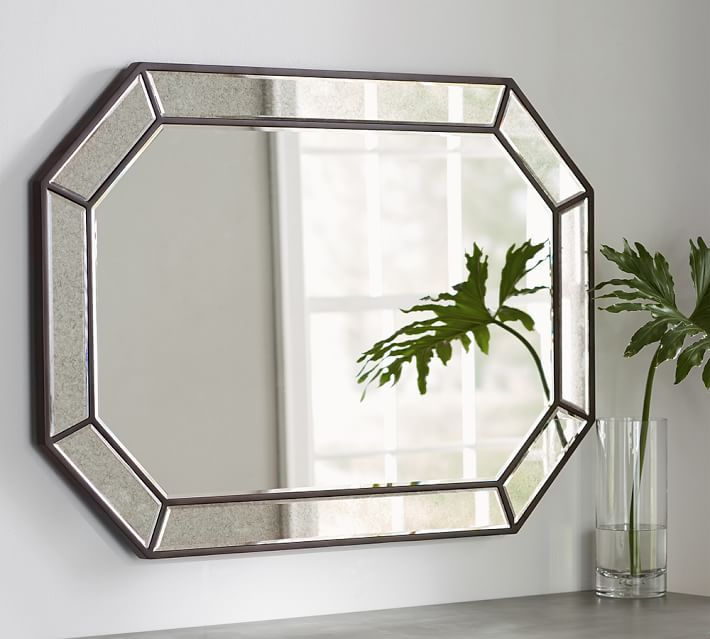Nonrec_Glass: (34, 54, 611, 543), (584, 409, 691, 611)
Organik: (607, 238, 710, 388)
